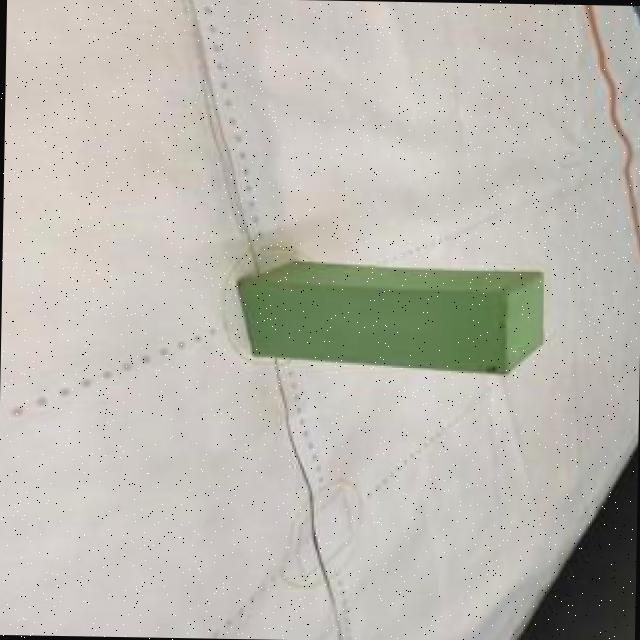greenbox: (245, 255, 546, 375)
